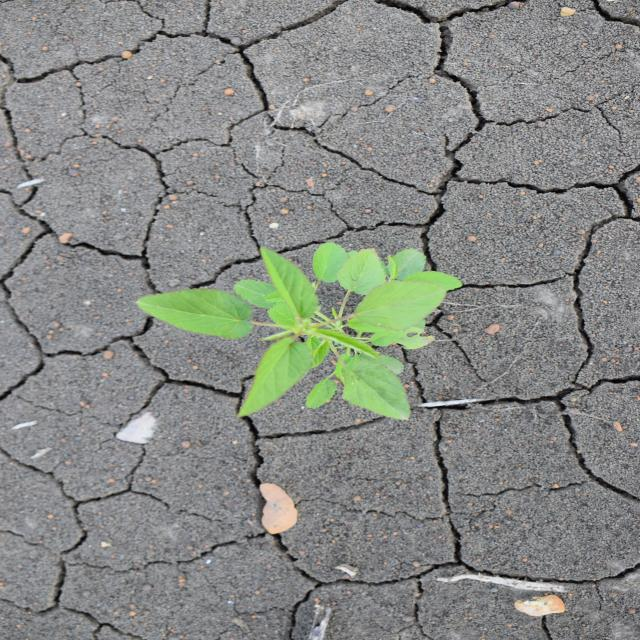PricklySida: (132, 240, 466, 422)
